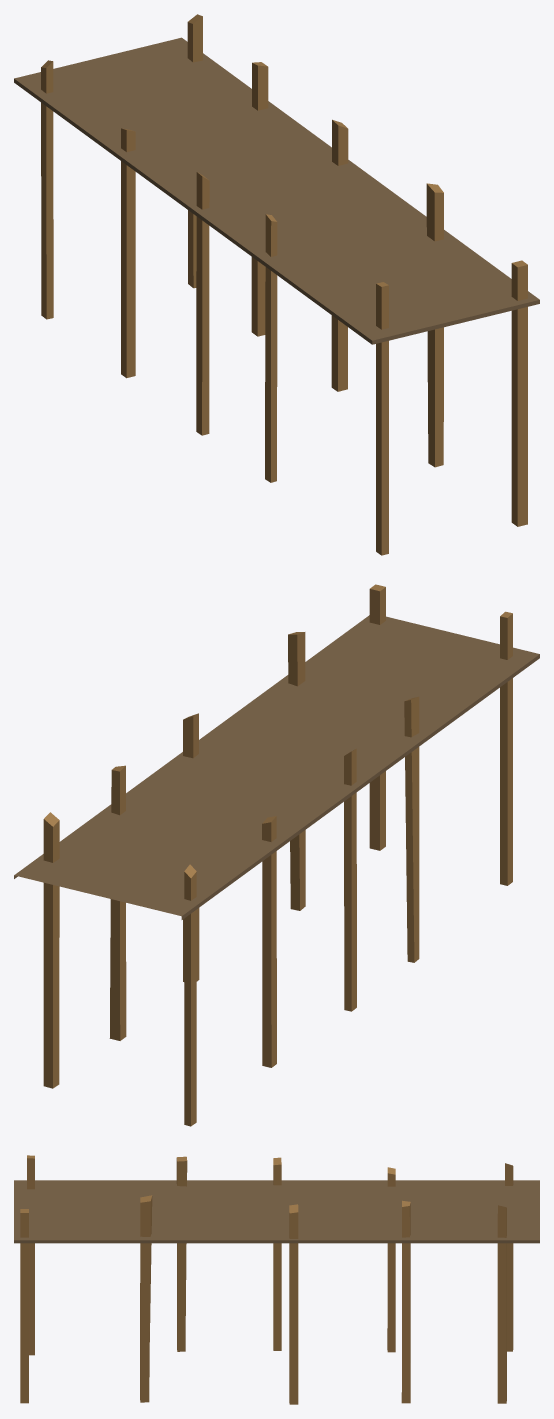
Rendered from FlatDock.fbx.
3 views of the same model, one above another, from view 1: azimuth 30°, elevation 25°; view 2: azimuth 150°, elevation 25°; view 3: azimuth 270°, elevation 25° (orthographic). The views are drawn at different scales.
Parts seen in each view (by area): view 1: FlatDock, Poles; view 2: FlatDock, Poles; view 3: FlatDock, Poles.
Part boxes in pixels (x1,y1,x2,y2): FlatDock: (14,37,539,344); Poles: (41,14,527,555); FlatDock: (14,615,539,919); Poles: (43,584,512,1126); FlatDock: (14,1180,539,1243); Poles: (20,1155,513,1404).
Size of the model in its own units: 439 by 695 by 1622.
